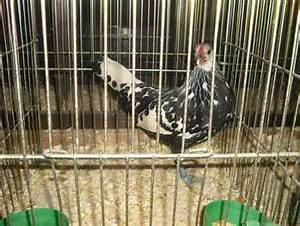hen: (82, 40, 238, 191)
